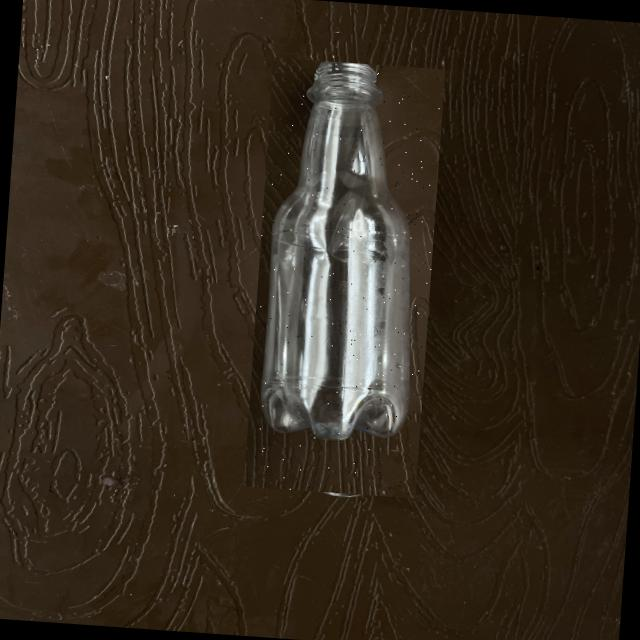PET_ClearBottle: (242, 56, 444, 497)
